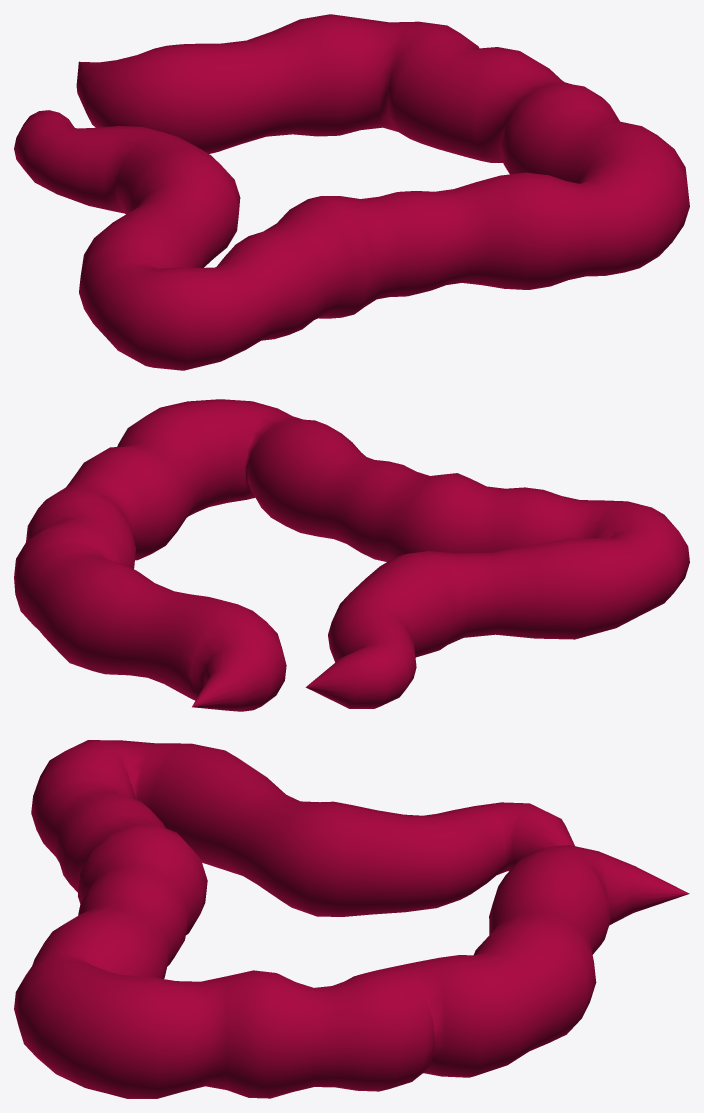
Rendered from INTESTINES.glb.
3 views of the same model, one above another, from view 1: azimuth 30°, elevation 25°; view 2: azimuth 150°, elevation 25°; view 3: azimuth 270°, elevation 25° (orthographic). The views are drawn at different scales.
Visible parts, largest first — view 1: INTESTINES; view 2: INTESTINES; view 3: INTESTINES.
Boxes of the visible parts, x1,y1,x2,y2 form: INTESTINES: [14, 14, 689, 370]; INTESTINES: [14, 399, 689, 711]; INTESTINES: [14, 740, 689, 1098].
Size of the model in its own units: 4.23 by 0.7863 by 4.07.
